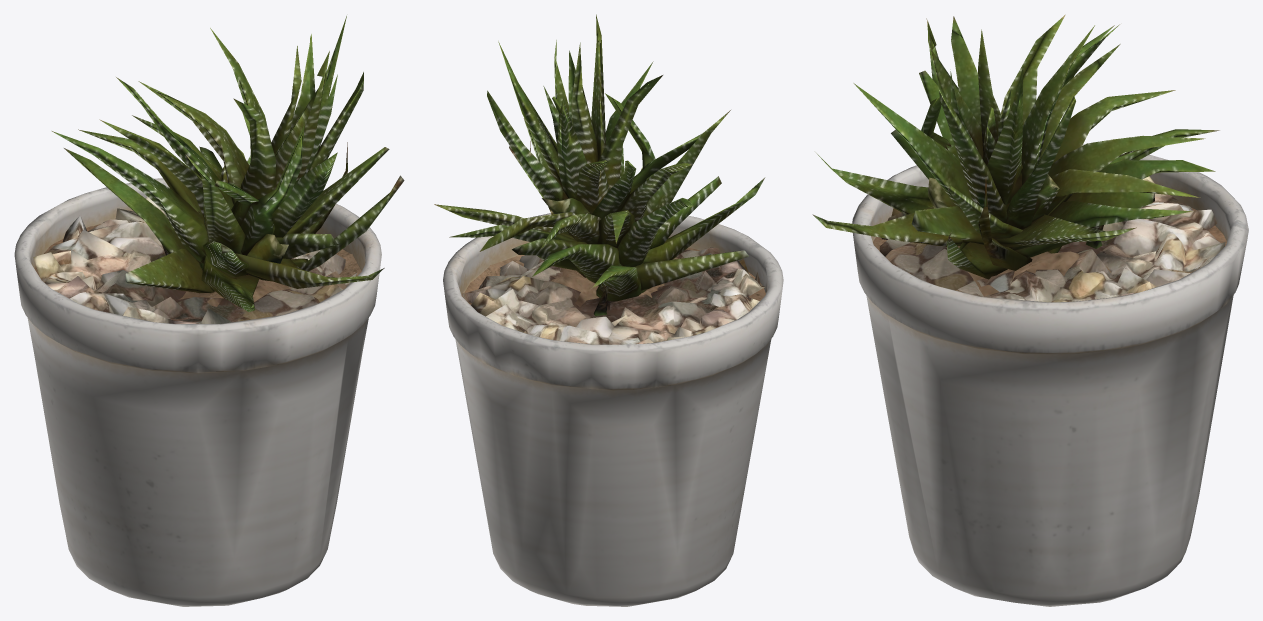
File: potted_plant_04.glb
3 views of the same model, side by side, from view 1: azimuth 30°, elevation 25°; view 2: azimuth 150°, elevation 25°; view 3: azimuth 270°, elevation 25° (orthographic). The views are drawn at different scales.
Parts seen in each view (by area): view 1: potted_plant_04_pot, potted_plant_04_plant, potted_plant_04_ground, potted_plant_04_dirt; view 2: potted_plant_04_pot, potted_plant_04_plant, potted_plant_04_ground, potted_plant_04_dirt; view 3: potted_plant_04_pot, potted_plant_04_plant, potted_plant_04_ground, potted_plant_04_dirt.
Part boxes in pixels (left/top/right/bottom): potted_plant_04_pot: left=14, top=178, right=381, bottom=606; potted_plant_04_plant: left=52, top=16, right=404, bottom=311; potted_plant_04_ground: left=33, top=196, right=356, bottom=323; potted_plant_04_dirt: left=34, top=224, right=361, bottom=306; potted_plant_04_pot: left=443, top=213, right=783, bottom=606; potted_plant_04_plant: left=434, top=14, right=765, bottom=315; potted_plant_04_ground: left=462, top=247, right=765, bottom=344; potted_plant_04_dirt: left=461, top=247, right=765, bottom=306; potted_plant_04_pot: left=852, top=144, right=1248, bottom=606; potted_plant_04_plant: left=812, top=14, right=1219, bottom=279; potted_plant_04_ground: left=879, top=176, right=1225, bottom=302; potted_plant_04_dirt: left=873, top=208, right=1226, bottom=296.
Size of the model in its own units: 0.1672 by 0.2671 by 0.1843.
1 material, 1 textured.
